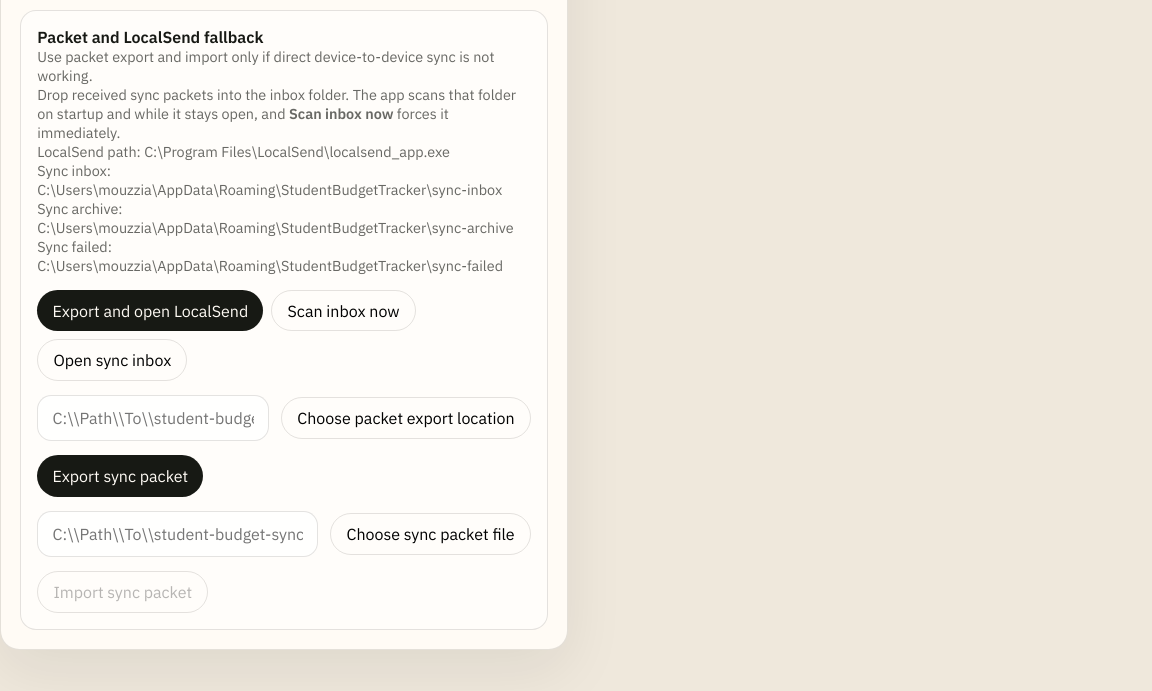
it: SettingsPage › opens the sync inbox folder
(page scrolled)
Click the button "Open sync inbox". click: [112, 360]
box: top-left (37, 339), bottom-right (188, 381)
(page scrolled)
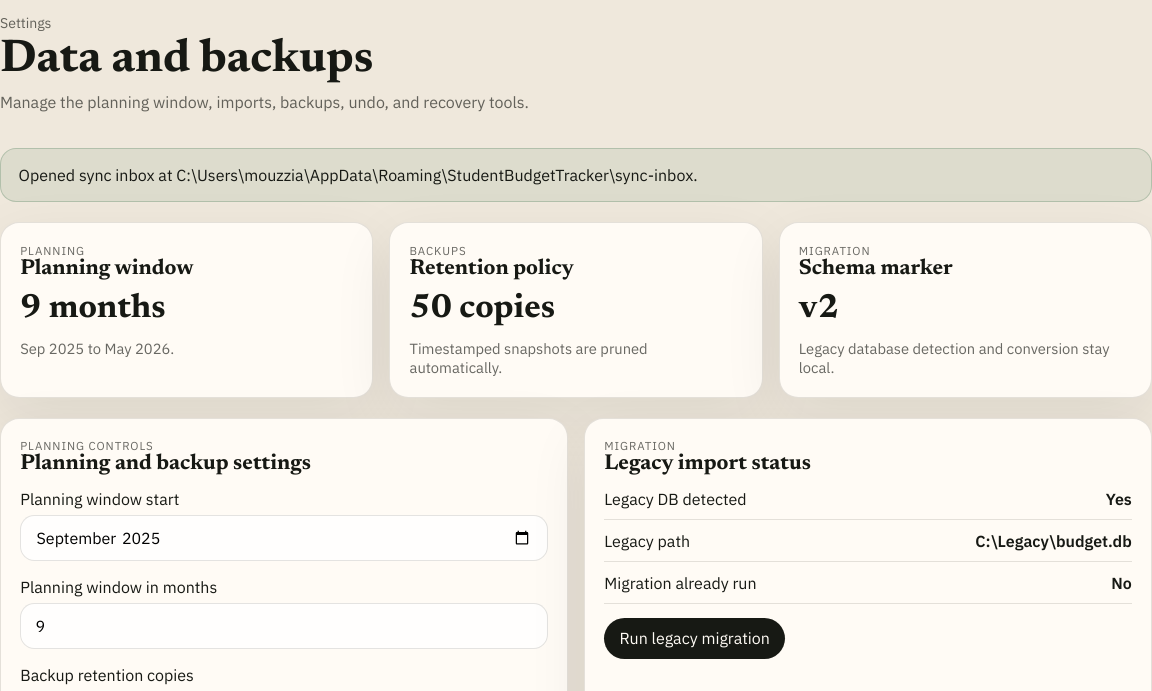
Result: the text "Opened sync inbox at C:\\Users\\mouzzia\\AppData\\Roaming\\StudentBudgetTracker\\sync-inbox." is shown at top-left (19, 165), bottom-right (698, 185)
